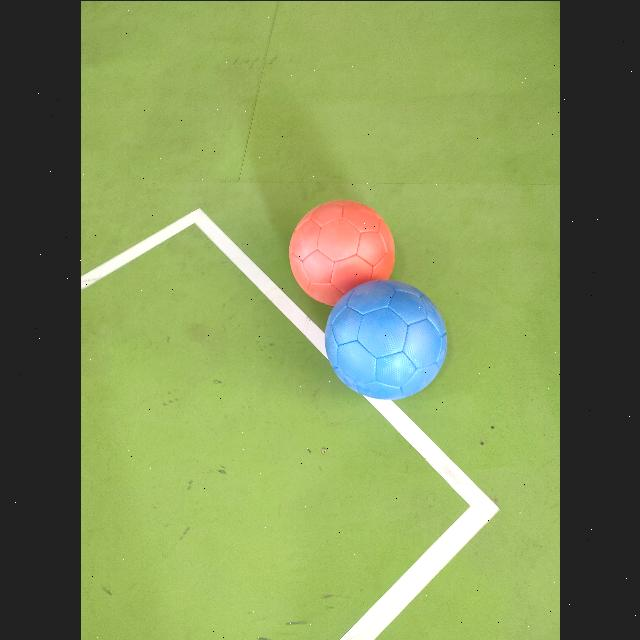B: (325, 279, 447, 398)
R: (289, 200, 394, 304)
